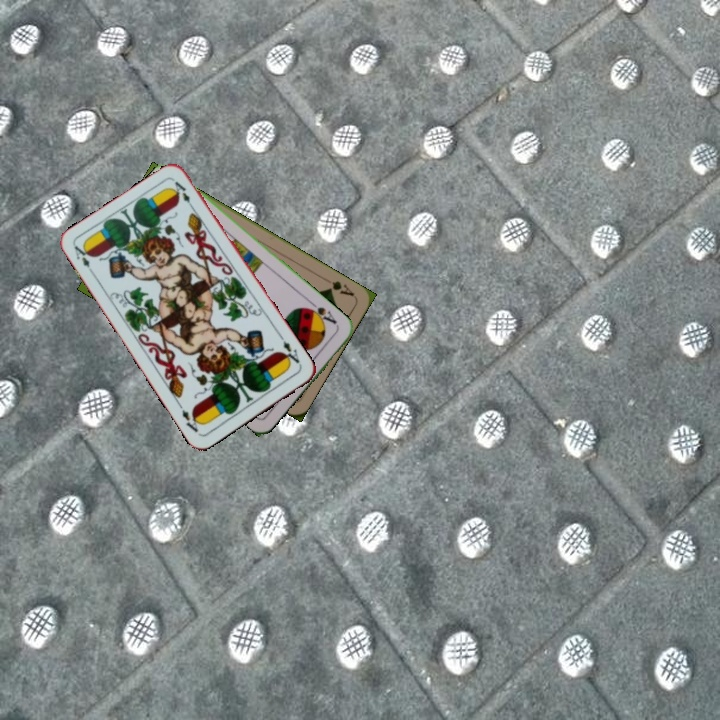EA: (70, 241, 98, 278), (276, 332, 304, 368)
GA: (323, 277, 357, 299)
SA: (303, 299, 341, 329)
